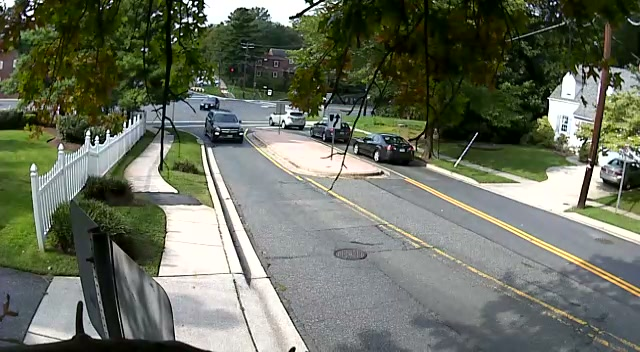car: (349, 133, 414, 165), (204, 110, 245, 144), (600, 156, 640, 190), (310, 115, 352, 143), (199, 96, 220, 110)
truck: (268, 108, 306, 129)
